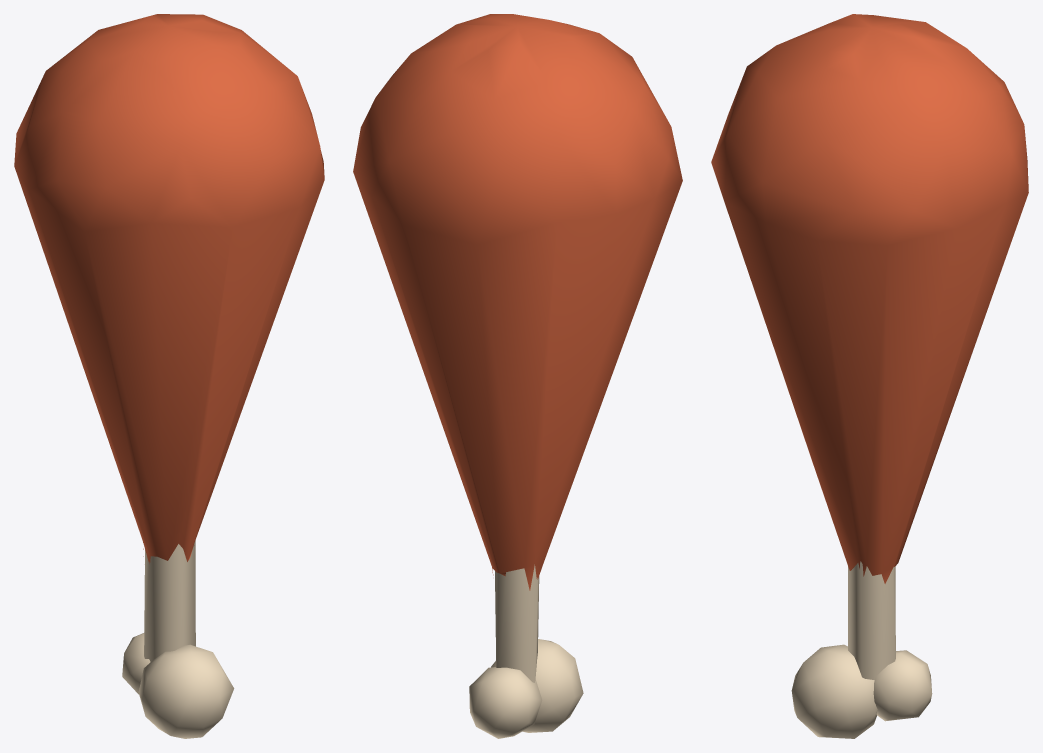
File: chicken_drumstick.fbx
The picture shows the model from 3 angles, left to right: view 1: azimuth 30°, elevation 25°; view 2: azimuth 150°, elevation 25°; view 3: azimuth 270°, elevation 25°; orthographic projection. The views are drawn at different scales.
Visible parts, largest first — view 1: Sphere.001; view 2: Sphere.001; view 3: Sphere.001.
Boxes of the visible parts, x1,y1,x2,y2 form: Sphere.001: [14, 14, 324, 738]; Sphere.001: [353, 14, 682, 738]; Sphere.001: [711, 14, 1028, 738].
Bounding box in the file's own units: 203 × 489 × 199.
